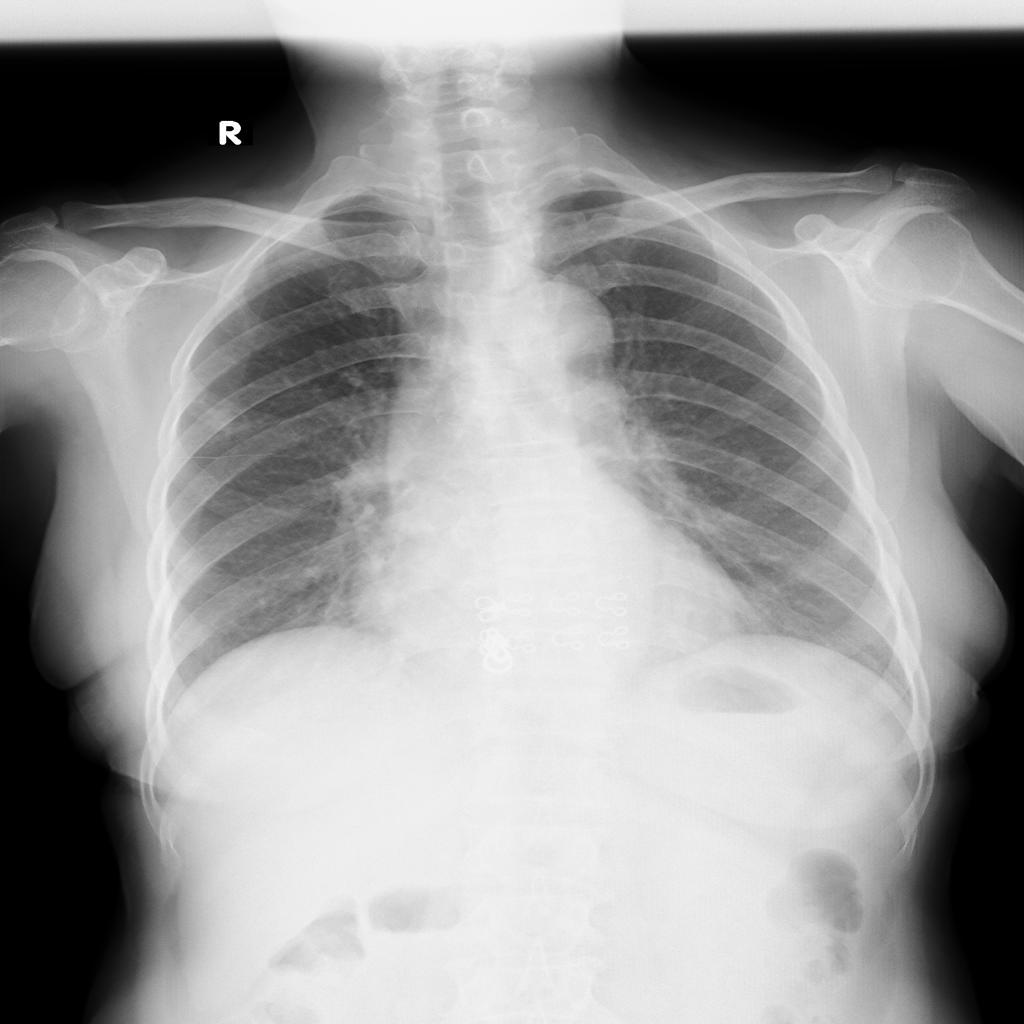Nodule: (735, 451, 762, 473)
